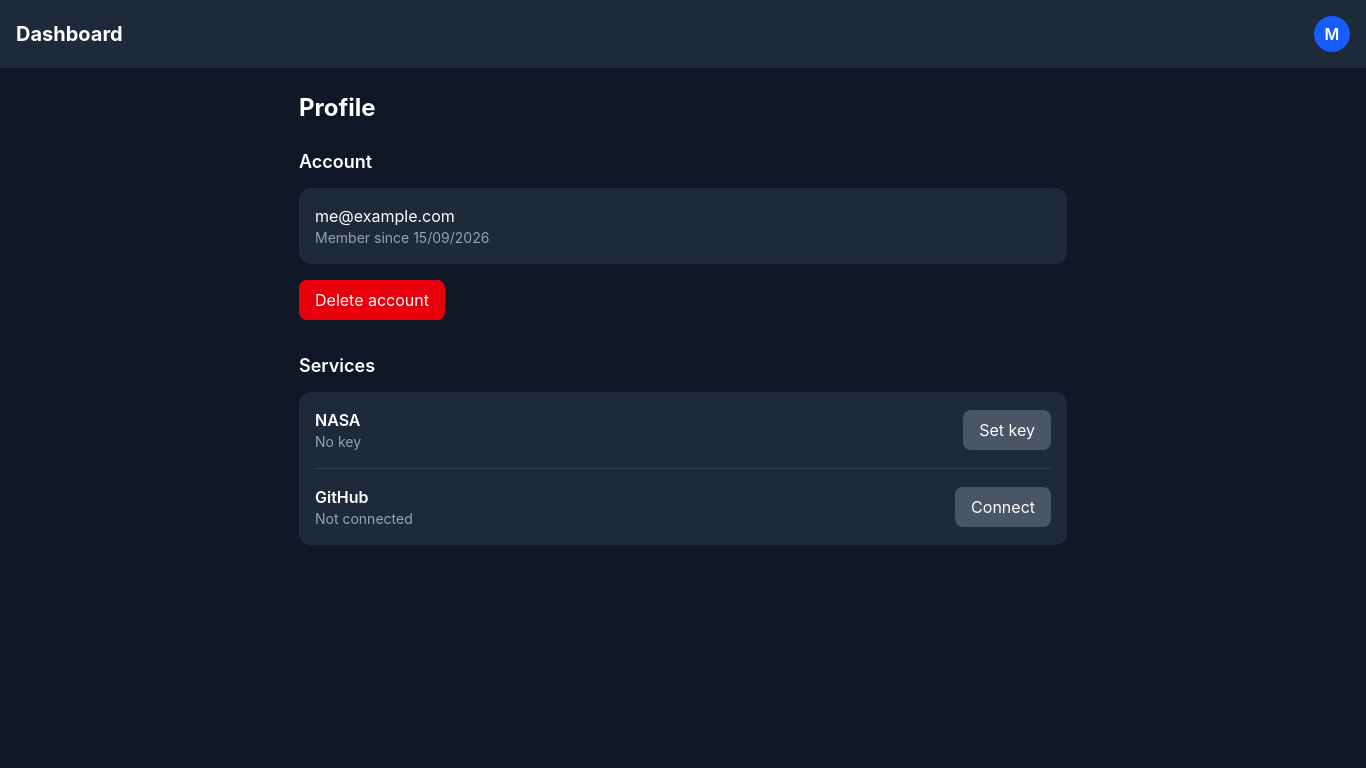
Test case: Account: deleting the account › the confirm button is disabled while the request runs
Click the button "Delete account" at (372,300), box [299,280,445,320]
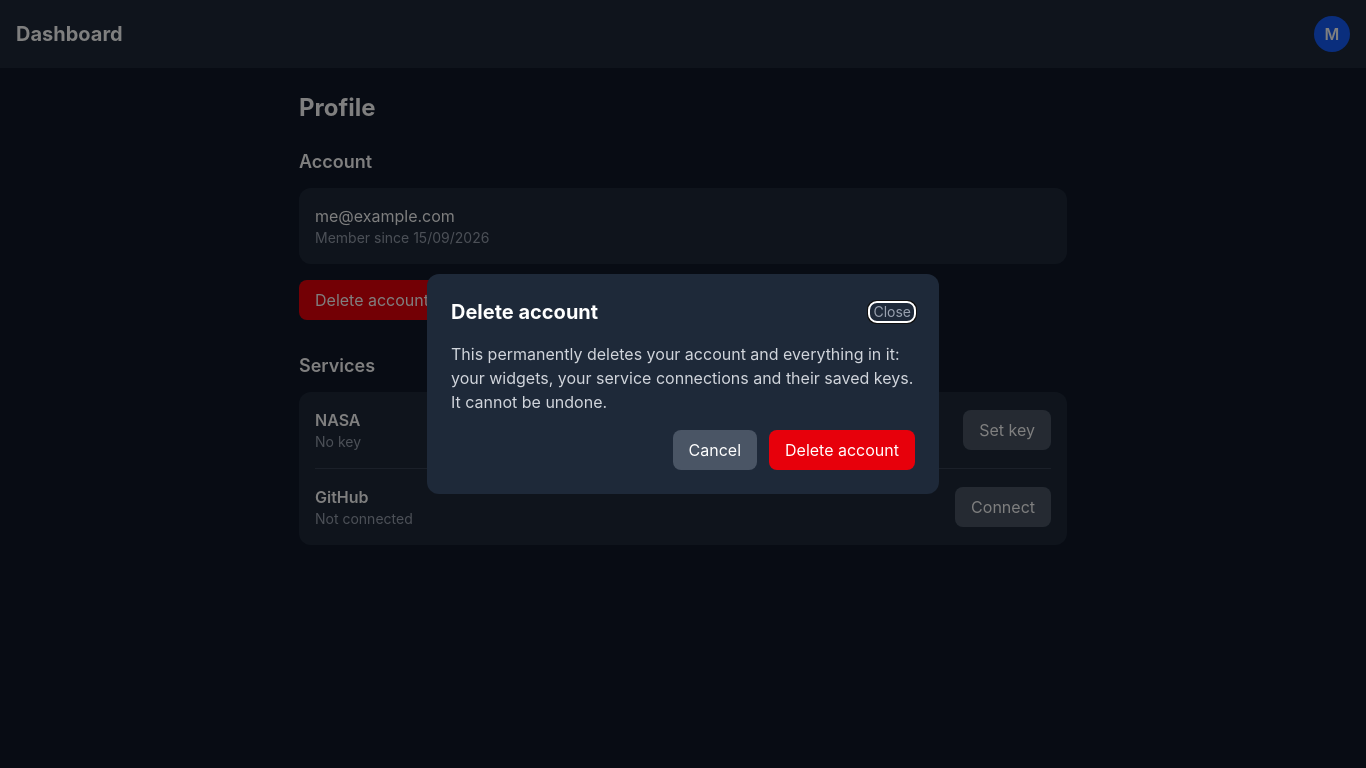
Click the button "Delete account" at (842,450), box [769,430,915,470]
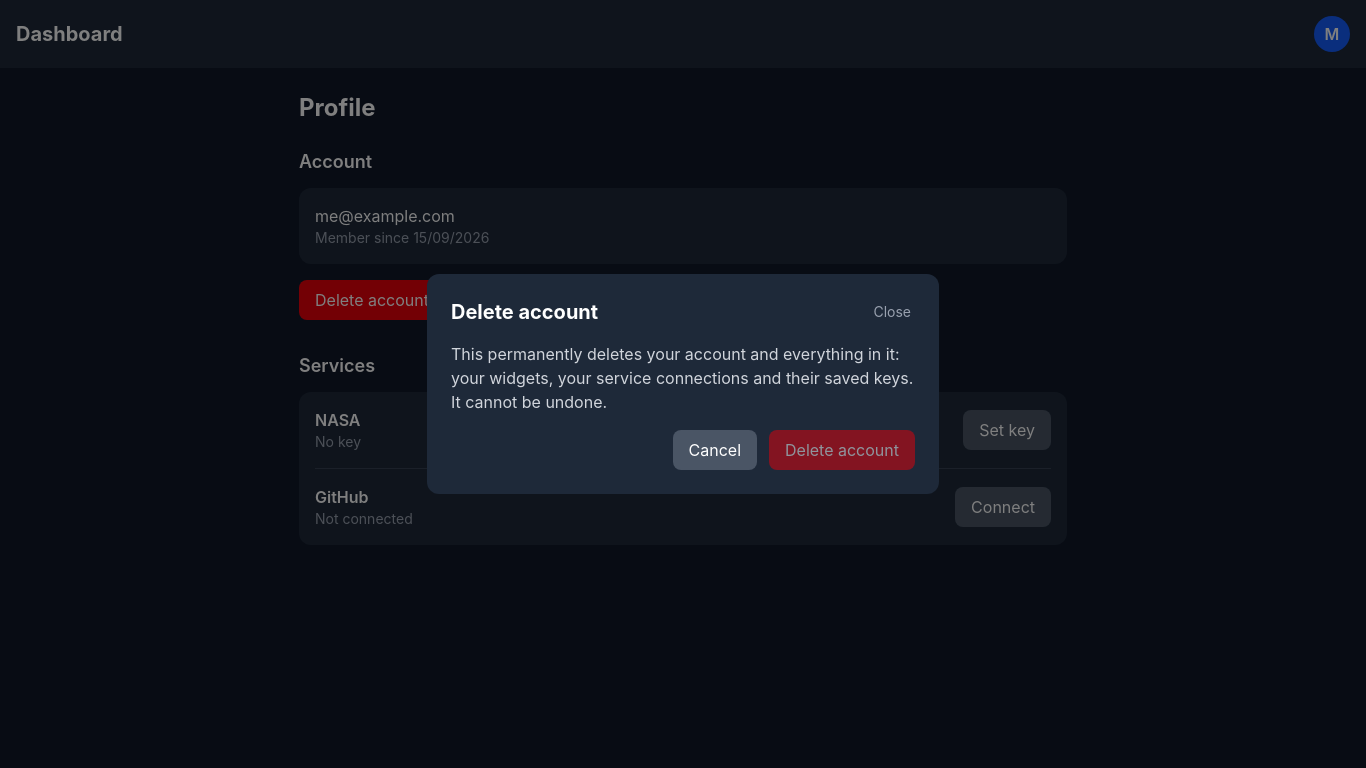
Result: the dialog is shown at [427,274,939,494]
Result: the button "Delete account" is disabled at [769,430,915,470]
